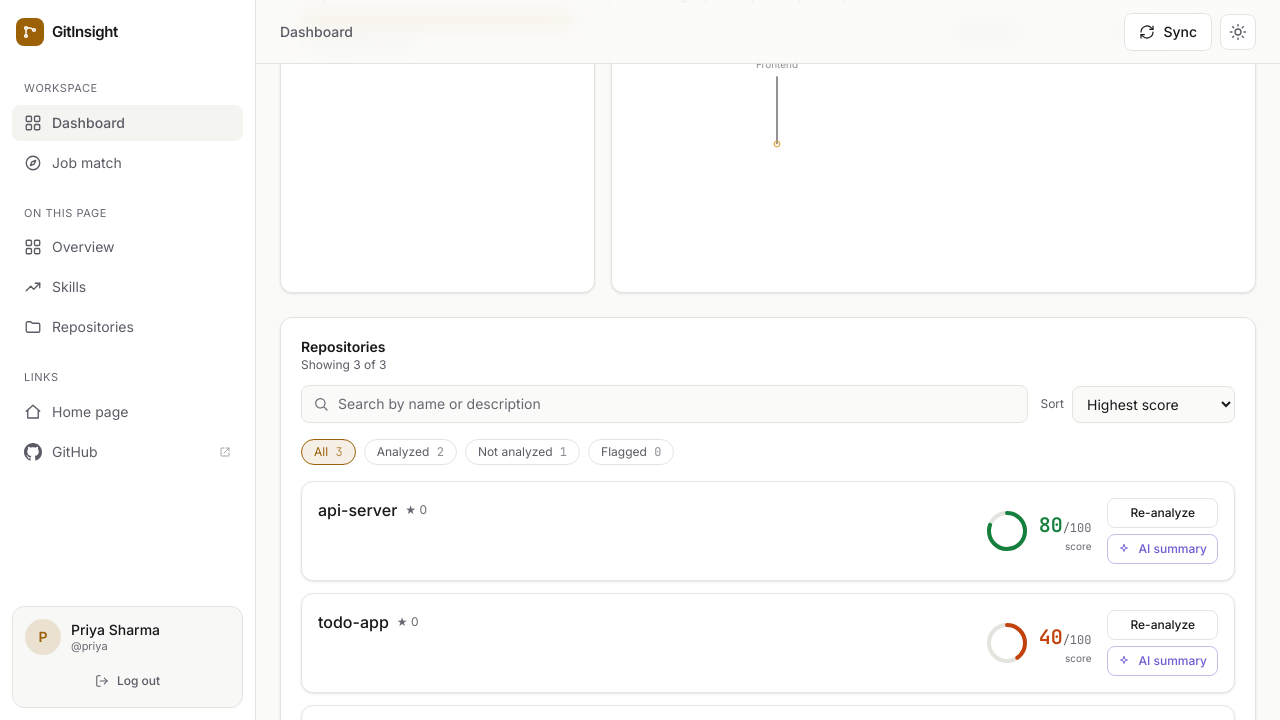
Test: Dashboard › searches by name and offers a way out when nothing matches
(page scrolled)
expect the heading "api-server" is shown: met, box [318,498,397,522]
Type "todo" into the search field with placeholder "Search by name or description" at [665, 404], box [301,385,1028,423]
(page scrolled)
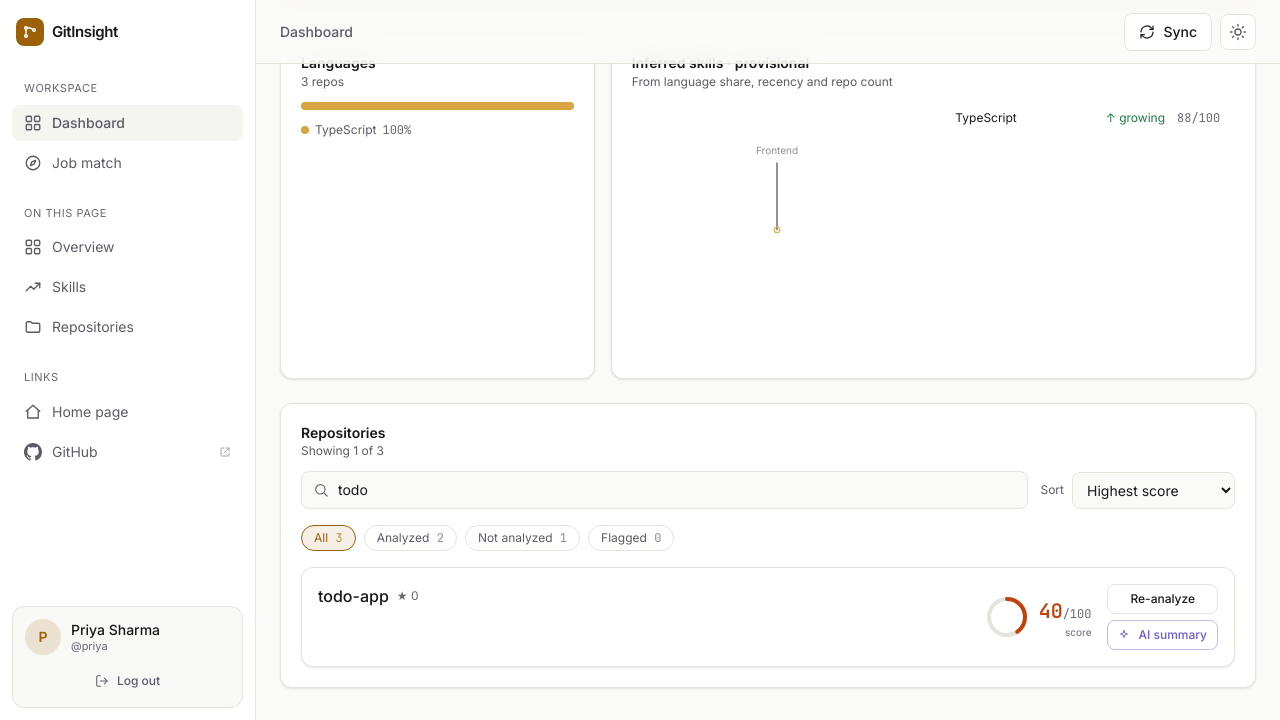
expect the heading "todo-app" is shown: met, box [318,584,389,608]
expect the heading "api-server" is gone: met
Replace the text in the search field with placeholder "Search by name or description" with "zzzz" at [665, 490], box [301,471,1028,509]
(page scrolled)
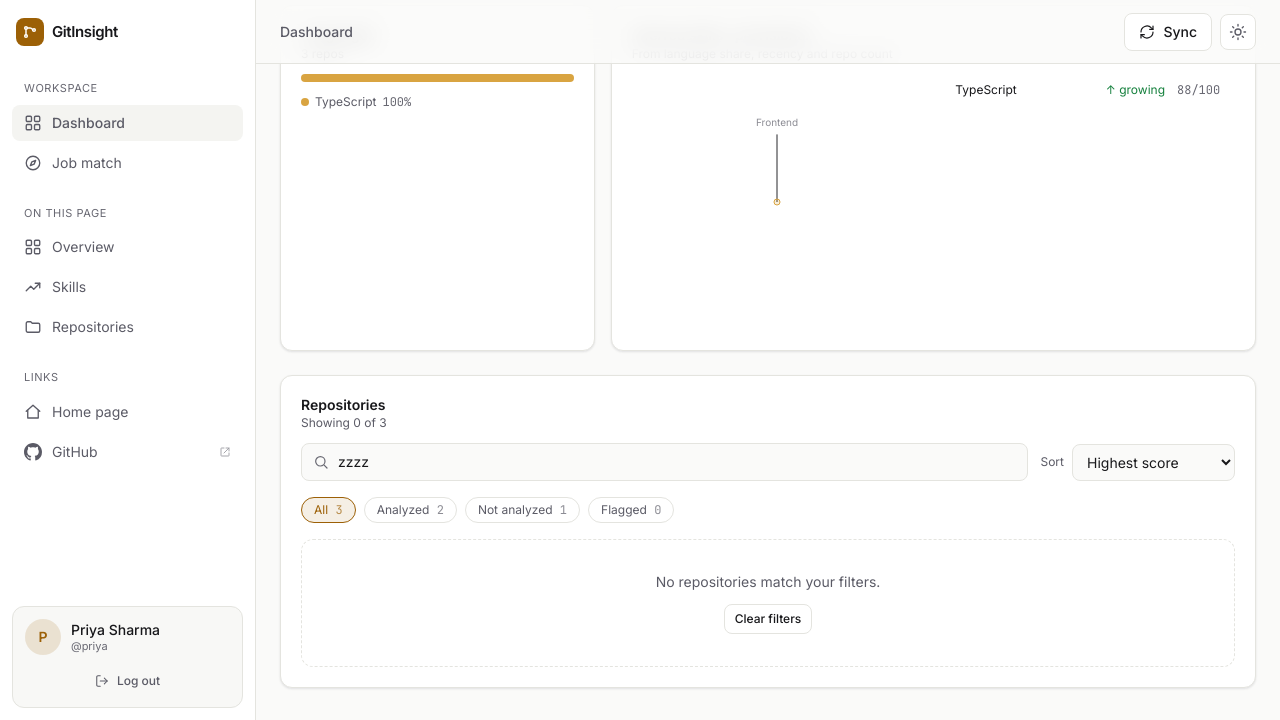
expect the text "No repositories match your filters." is shown: met, box [656,573,880,590]
Click the button "Clear filters" at [768, 619], box [724,604,812,634]
(page scrolled)
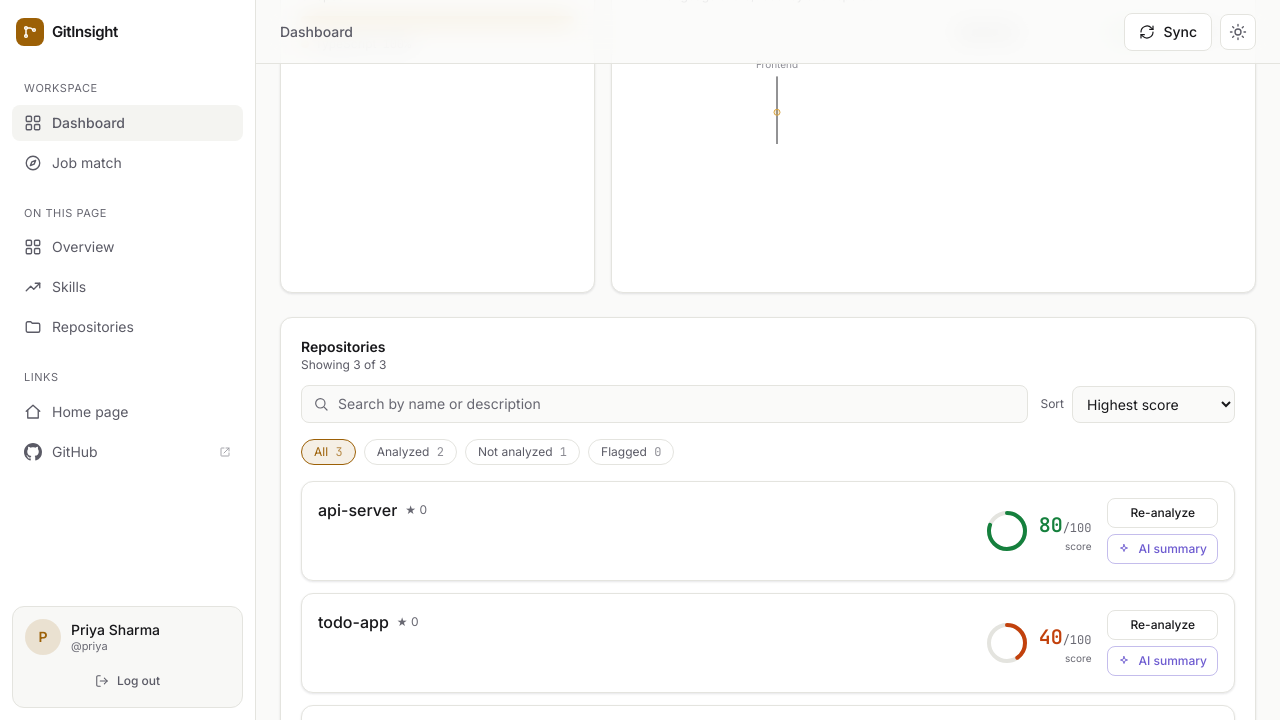
expect the heading "api-server" is shown: met, box [318,498,397,522]
